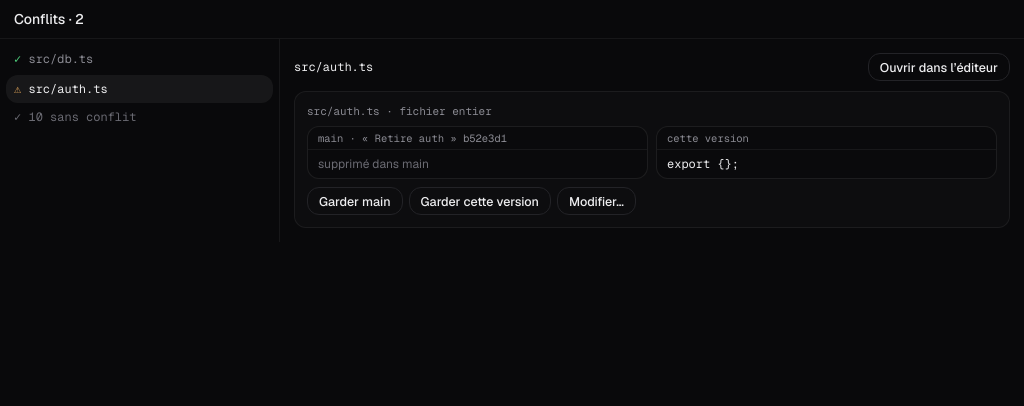
ConflictsTab › marks a resolved file ✓
Expected: the element "src/auth.ts · fichier entier" is shown, [294,91,1010,228]
Click the button "✓ src/db.ts".
click(61, 59)  # box [6,45,273,73]
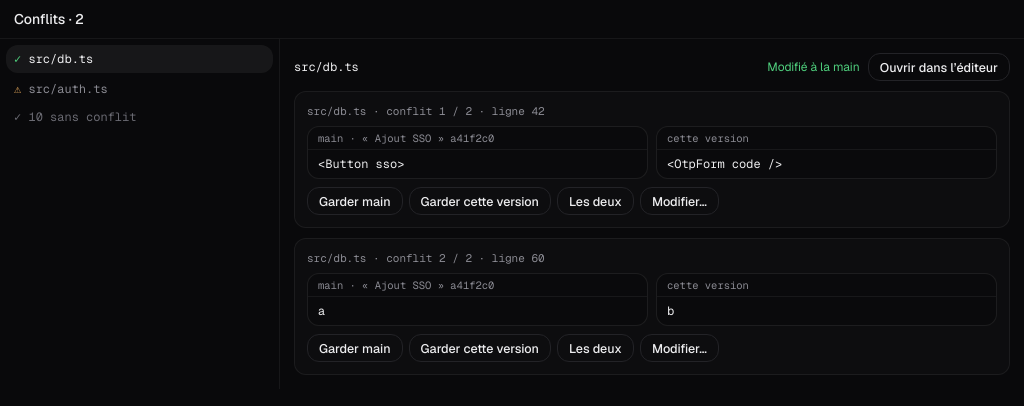
Now the text "Modifié à la main" is shown, box [767,59,860,75]
